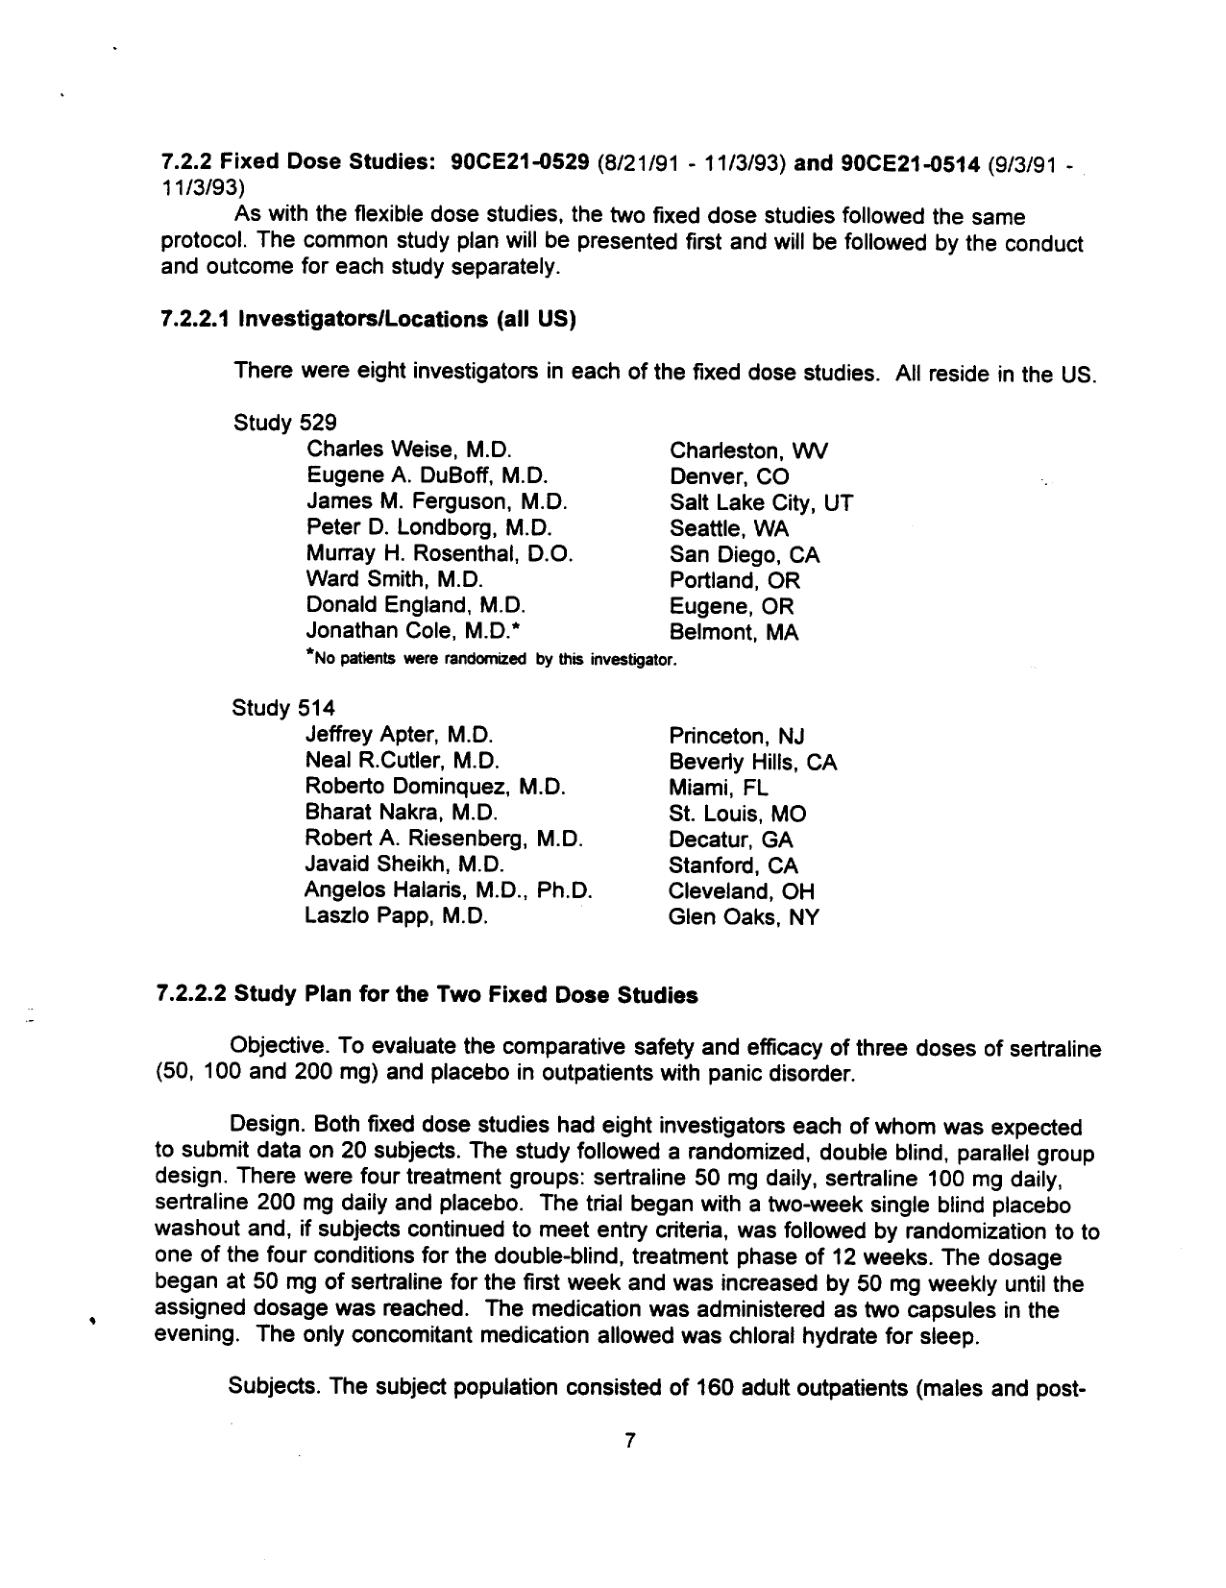nolines: (228, 406, 862, 672), (223, 692, 844, 936)
